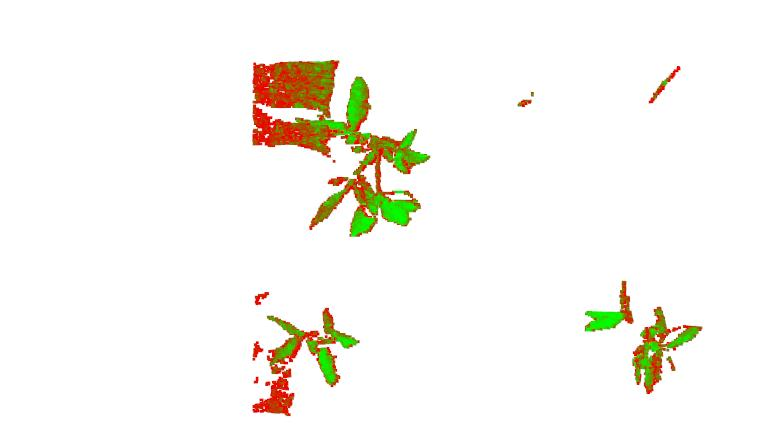mungbean: (309, 72, 425, 239), (585, 281, 704, 394), (259, 306, 364, 389)
